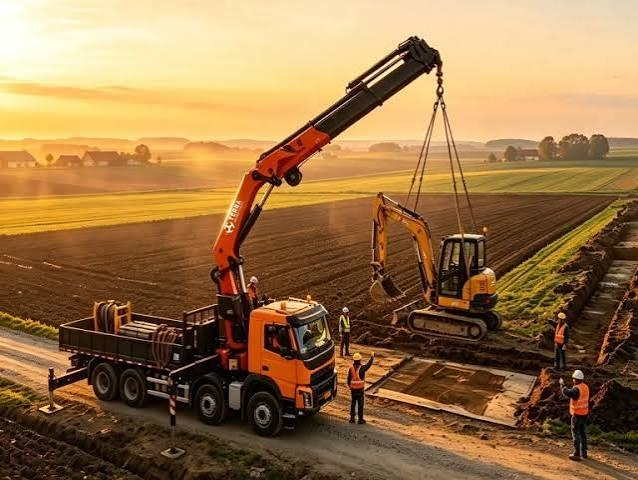crane: (48, 22, 498, 430)
excavator: (347, 183, 523, 360)
truck: (49, 259, 379, 448)
